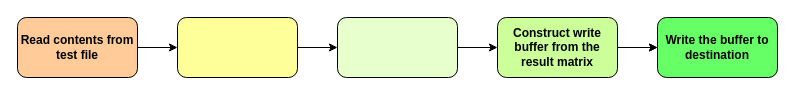
Some shapes in this 795 by 95 pixel diagram are drawn without their labels. The shapes that lost their labels are listed below. From the top down, each one's box as (x1, y1, x2, y2) in pixels, then its label:
(176, 16, 298, 78): Construct matrices from read buffer
(336, 16, 458, 78): Covolve contructed matrices
